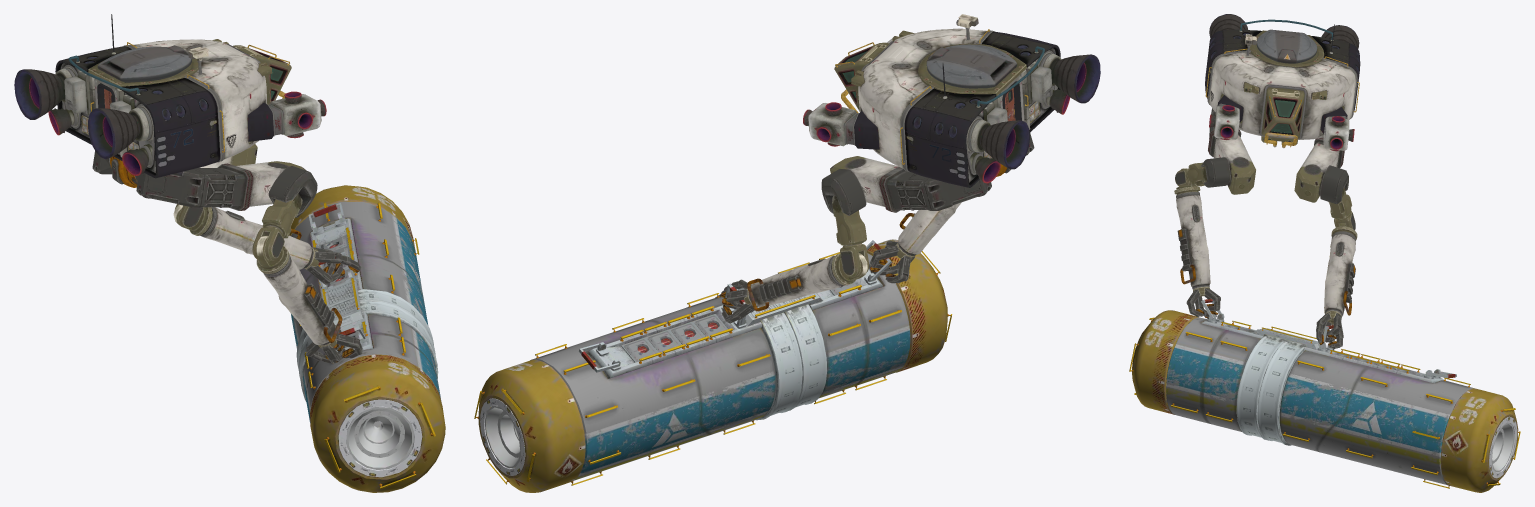
The model's file is skiff.glb.
The picture shows the model from 3 angles, left to right: view 1: azimuth 30°, elevation 25°; view 2: azimuth 150°, elevation 25°; view 3: azimuth 270°, elevation 25°; orthographic projection. The views are drawn at different scales.
Parts seen in each view (by area): view 1: hull; view 2: hull; view 3: hull.
Boxes of the visible parts, x1=… form: hull: x1=14, y1=14, x2=445, y2=492; hull: x1=474, y1=14, x2=1100, y2=492; hull: x1=1129, y1=14, x2=1520, y2=492.
Bounding box in the file's own units: 7.99 × 7.32 × 7.62.
Materials: 7 (7 with a texture image).
